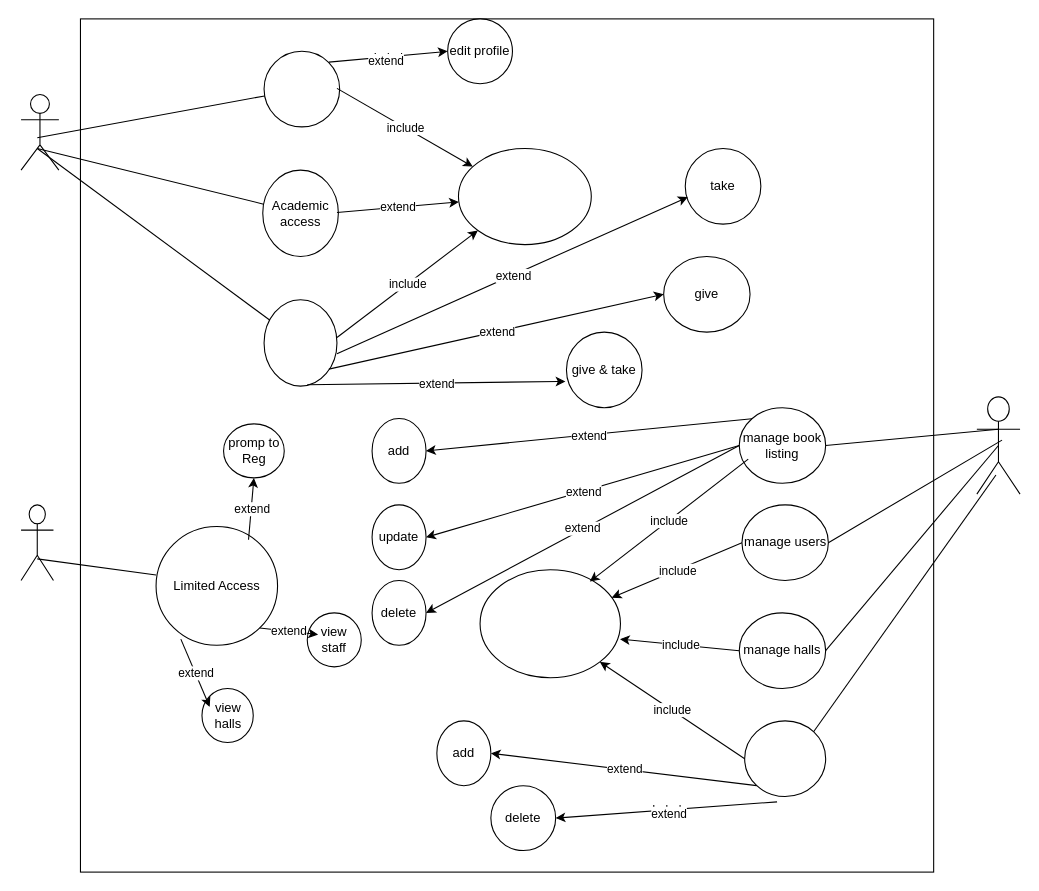
The diagram is 1039 pixels wide and 891 high, and some of its shapes have lost their labels. The shapes that lost their labels are listed below. From the top down, each one's centre as x and y in pixels, then its label:
At pixel 301 88: "Profile managment".
At pixel 39 131: "student".
At pixel 524 196: "Register _______ Log In".
At pixel 300 342: "Book Exchange".
At pixel 998 445: "admin".
At pixel 36 542: "guest".
At pixel 549 623: "Log In ________ Log Out".
At pixel 785 758: "manage academic staff".
